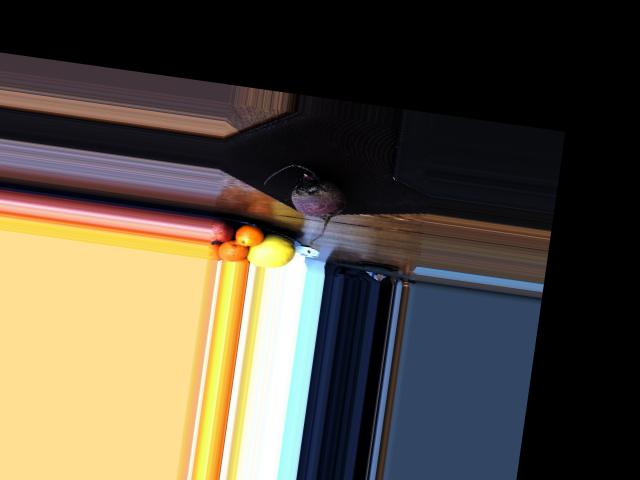beet: (257, 160, 350, 244)
